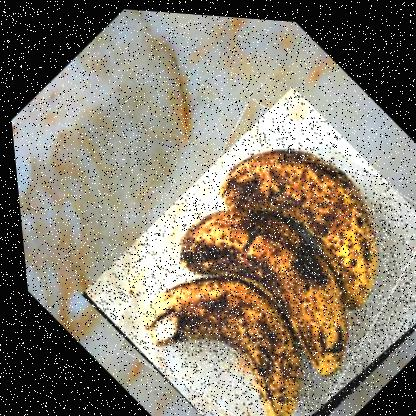banana_rotten: (55, 67, 415, 415)
